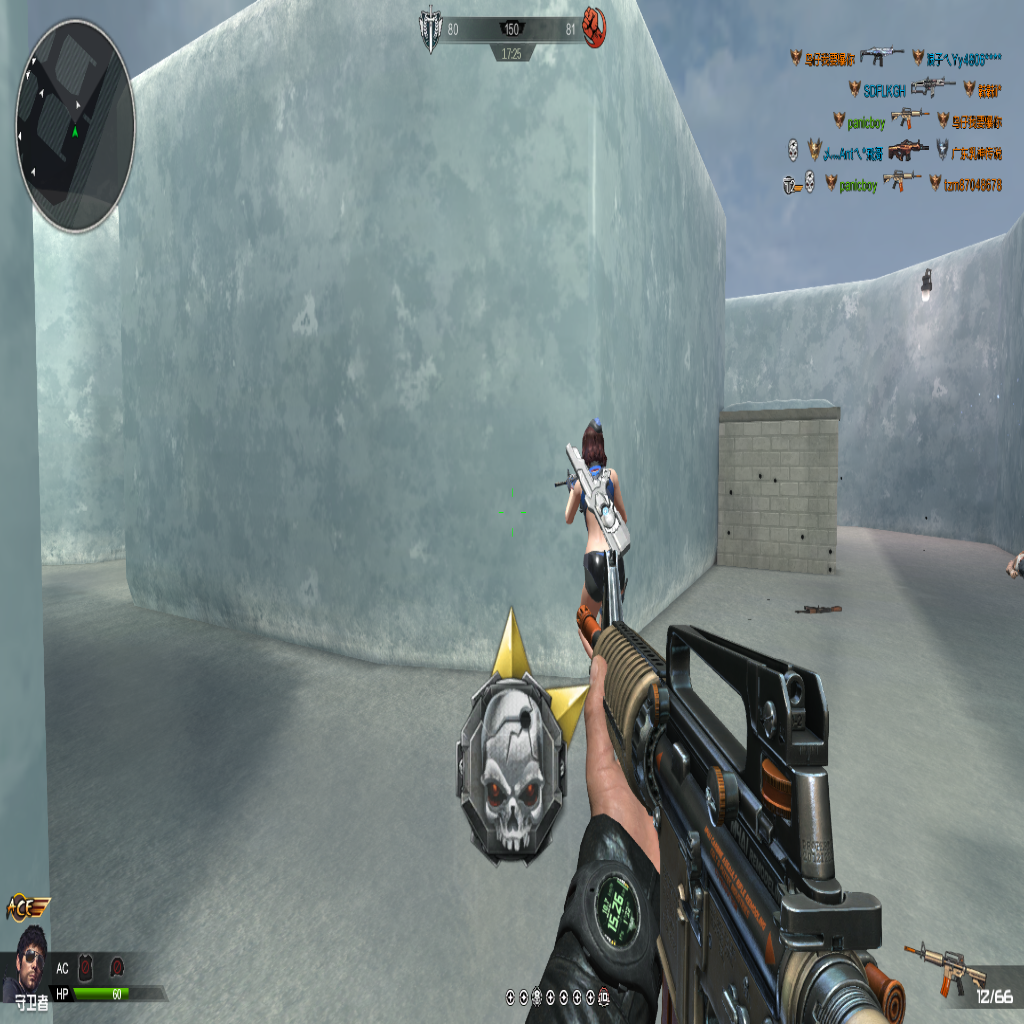ct: (566, 417, 630, 621)
